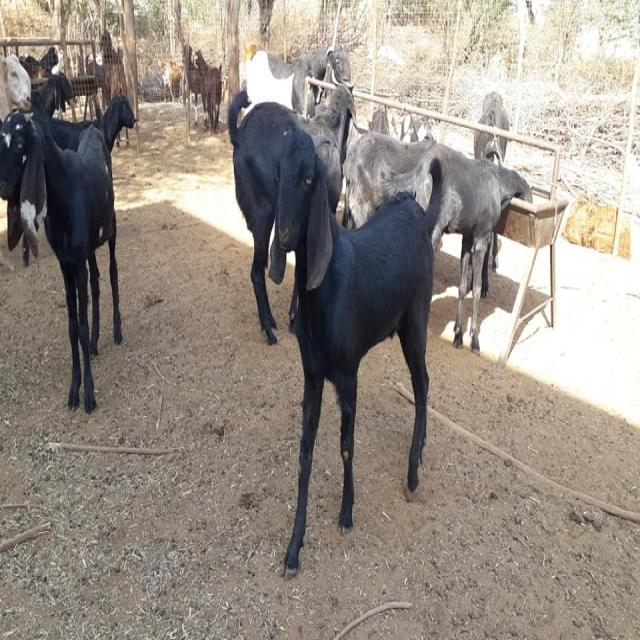Goat: (268, 126, 436, 576), (341, 122, 533, 353), (0, 90, 137, 413), (227, 78, 357, 345), (473, 90, 510, 295)
